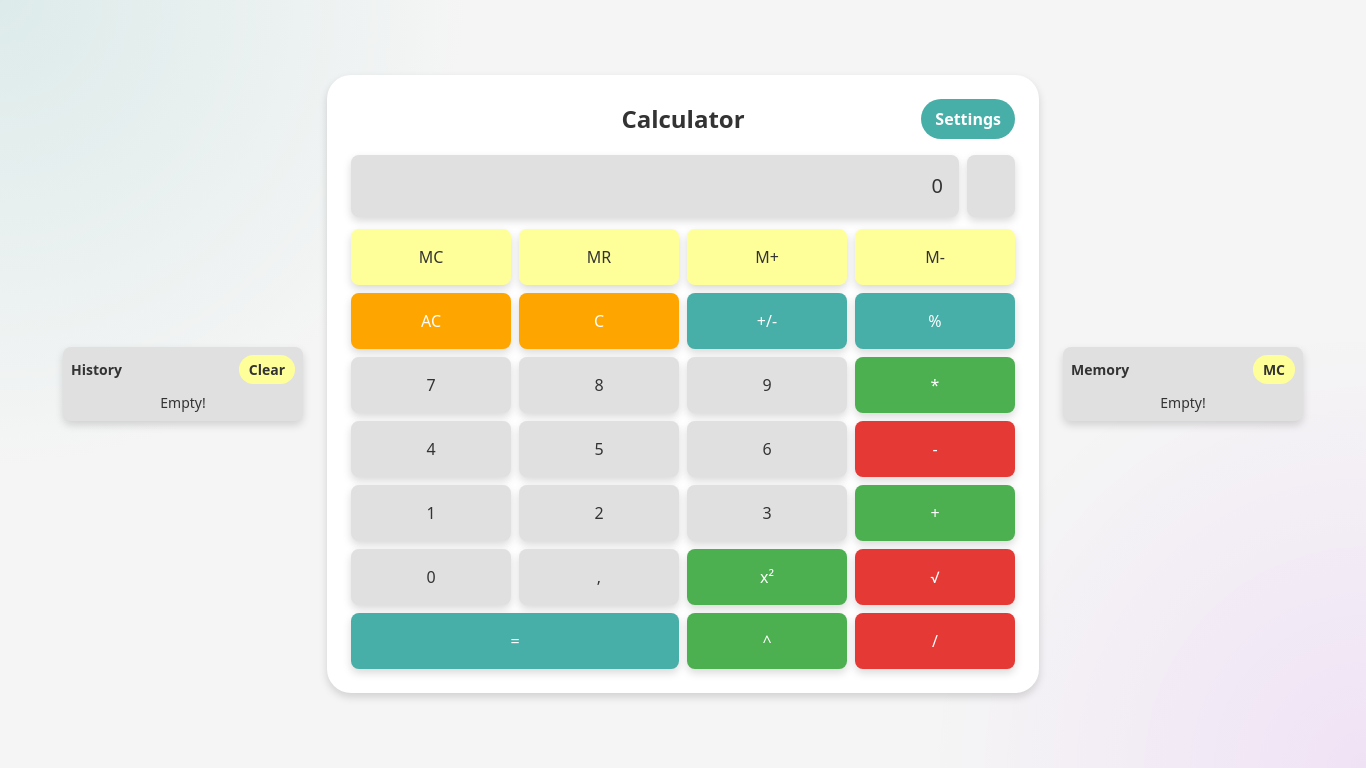
Test: calculator application › completes division through the keypad
Click the button "8".
click(599, 385)  # box x1=519 y1=357 x2=679 y2=413
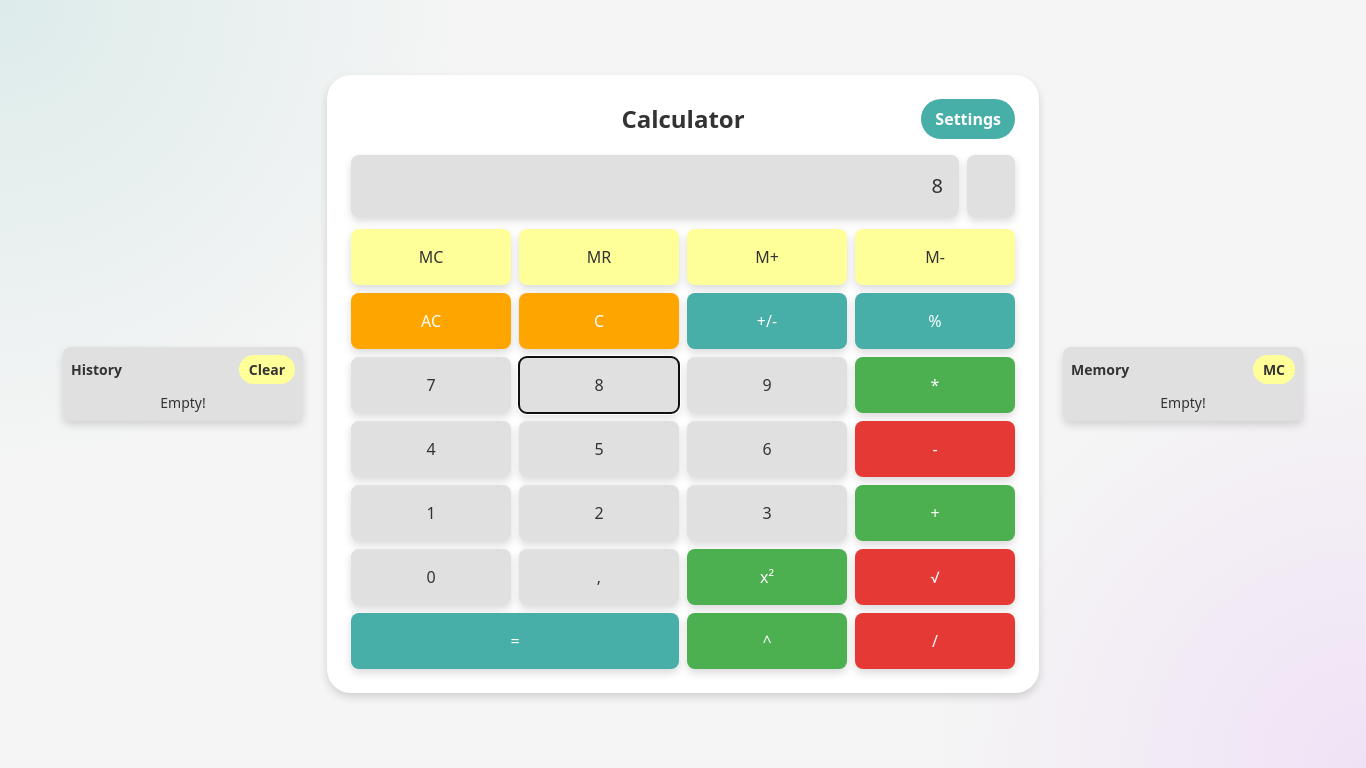
Click the button named "Division".
click(935, 641)  # box x1=855 y1=613 x2=1015 y2=669
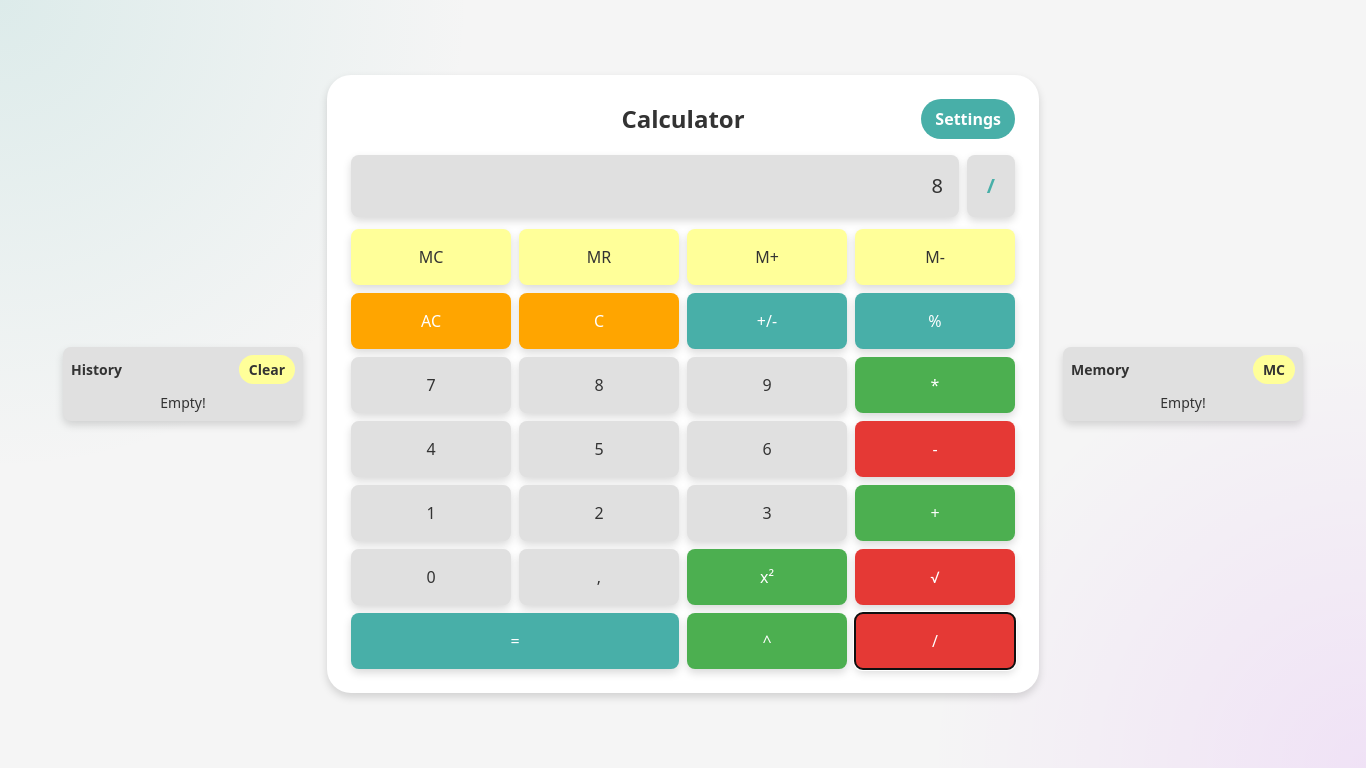
Click the button "2".
click(599, 513)  # box x1=519 y1=485 x2=679 y2=541
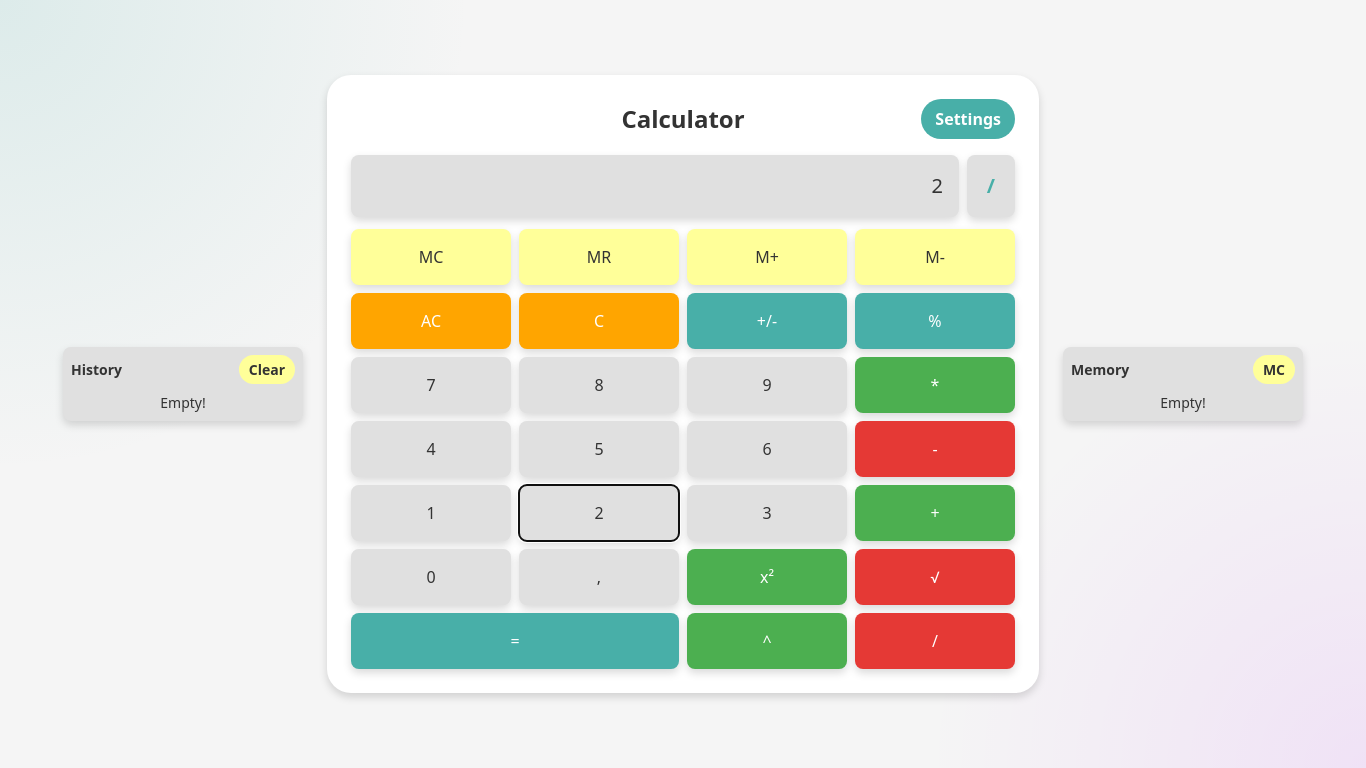
Click the button named "Equals".
click(515, 641)  # box x1=351 y1=613 x2=679 y2=669
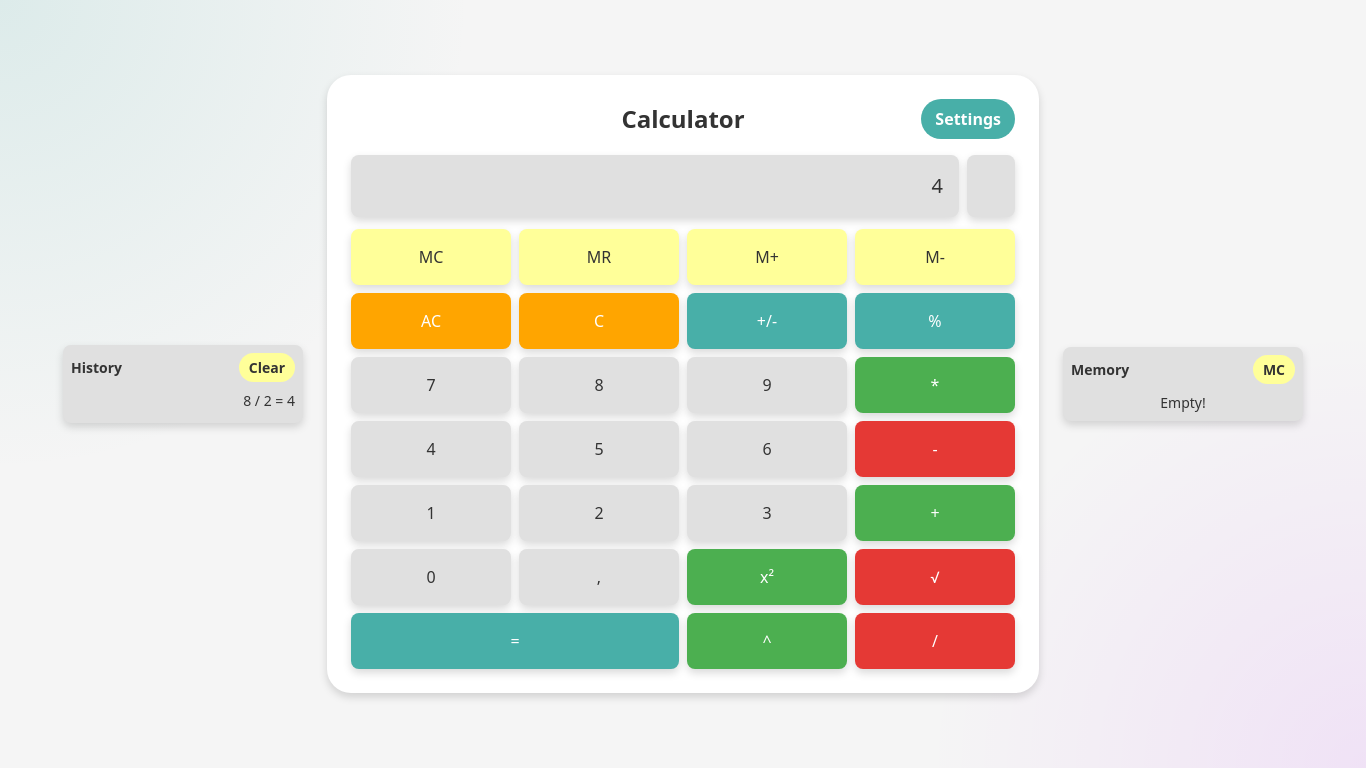
Expected: the field named "Calculator display" holds "4", x1=351 y1=155 x2=959 y2=217
